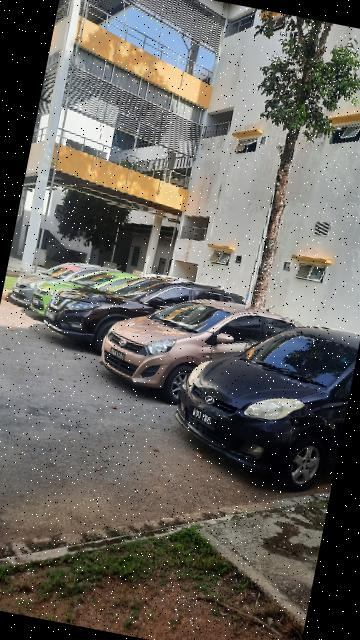License_Plate: (186, 401, 223, 433), (107, 347, 128, 363), (43, 308, 58, 322), (31, 299, 44, 308)
car: (164, 303, 360, 495), (94, 285, 302, 424), (18, 248, 247, 372)
